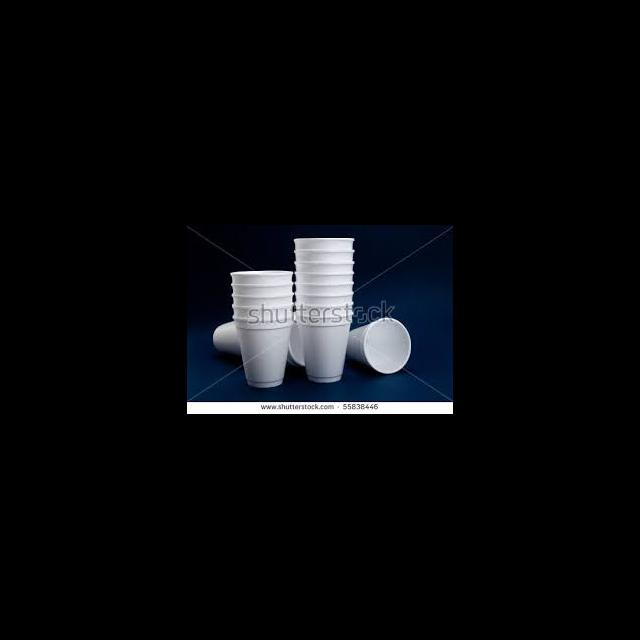paper: (293, 238, 352, 380), (228, 268, 291, 388), (212, 314, 305, 366), (231, 312, 290, 388), (295, 314, 351, 384), (346, 316, 411, 372)
